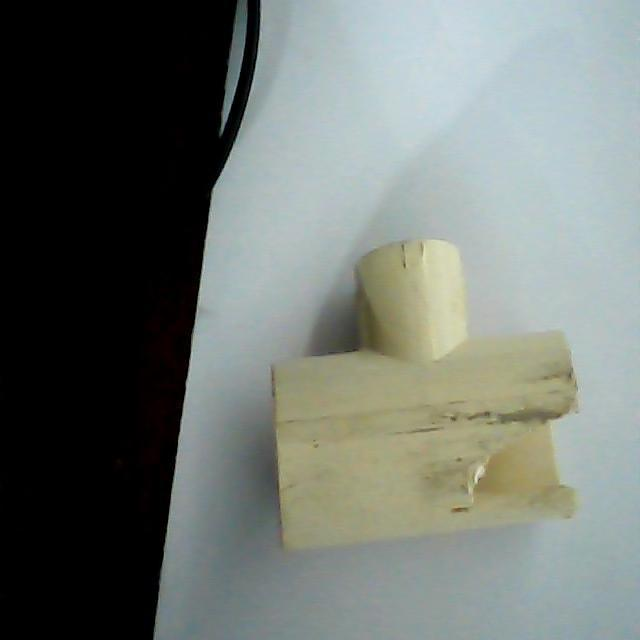Defective: (451, 410, 589, 513), (470, 413, 581, 525)
T Joint: (271, 239, 580, 554)
